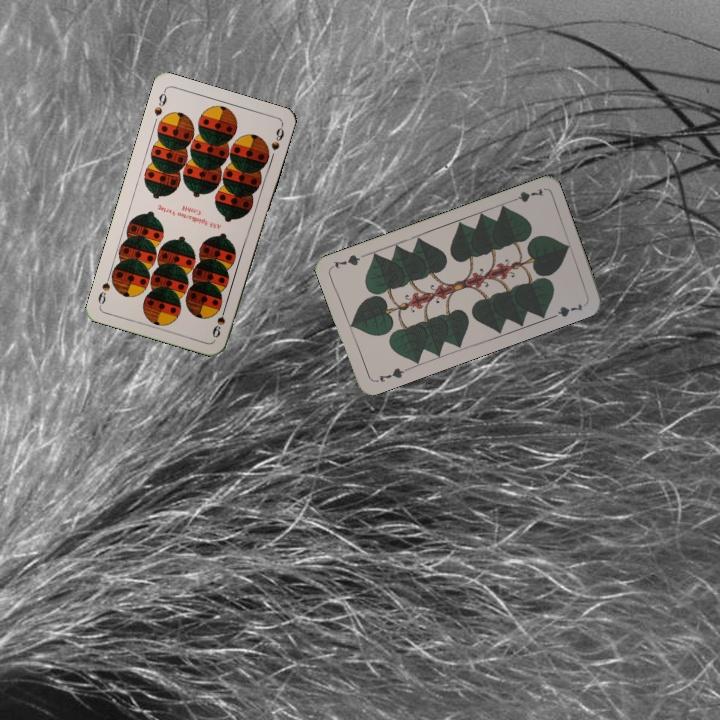G7: (506, 184, 546, 205), (371, 364, 410, 385)
S9: (208, 302, 229, 340), (150, 86, 169, 119)
